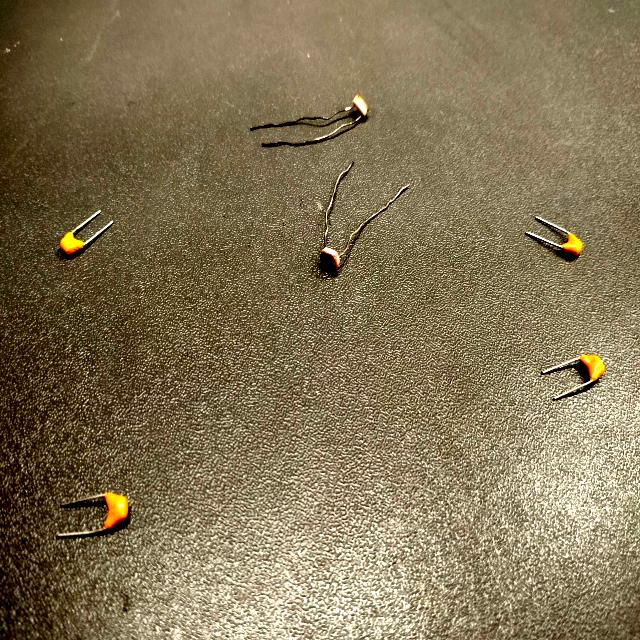capacitor: (548, 349, 609, 398), (529, 219, 582, 262), (60, 213, 111, 254), (94, 490, 132, 534)
